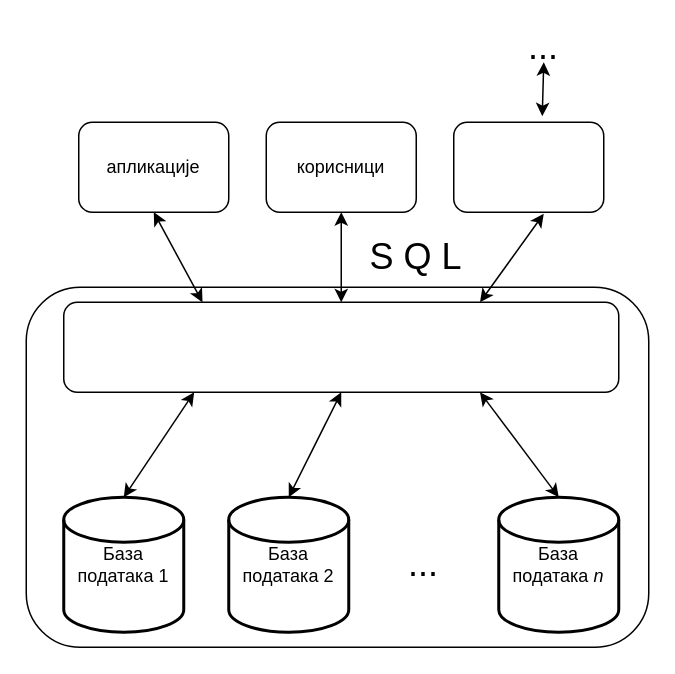
This 675x674 diagram has some shape labels left out. Here are the shapes that lost their labels. From the top down, the centre of each, then its label:
At point 528,166: "други СУБП".
At point 340,346: "СУБП".
